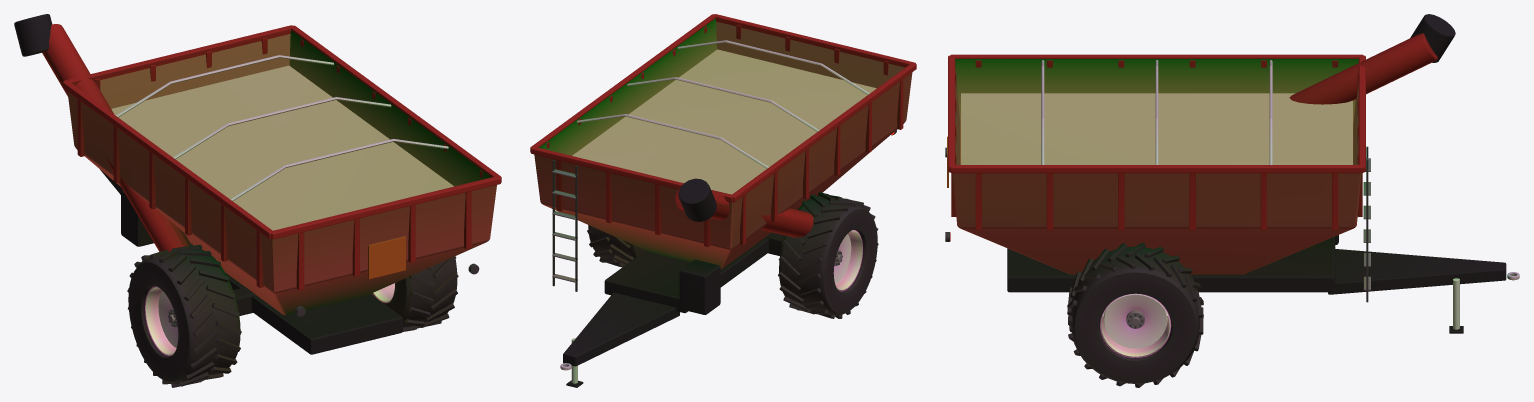
The model's file is grain_cart.glb.
3 views of the same model, side by side, from view 1: azimuth 30°, elevation 25°; view 2: azimuth 150°, elevation 25°; view 3: azimuth 270°, elevation 25° (orthographic). The views are drawn at different scales.
Visible parts, largest first — view 1: cart_body, cart_wheel_l, cart_wheel; view 2: cart_body, cart_wheel_l, cart_wheel; view 3: cart_body, cart_wheel.
Part boxes in pixels (box(x1,y1,x2,y2)): cart_body: box(14, 14, 501, 354); cart_wheel_l: box(127, 243, 241, 387); cart_wheel: box(371, 256, 458, 331); cart_body: box(530, 14, 916, 387); cart_wheel_l: box(778, 192, 878, 318); cart_wheel: box(587, 225, 645, 267); cart_body: box(945, 14, 1519, 333); cart_wheel: box(1067, 243, 1203, 387).
Bounding box in the file's own units: 4.35 × 3.94 × 8.06.
